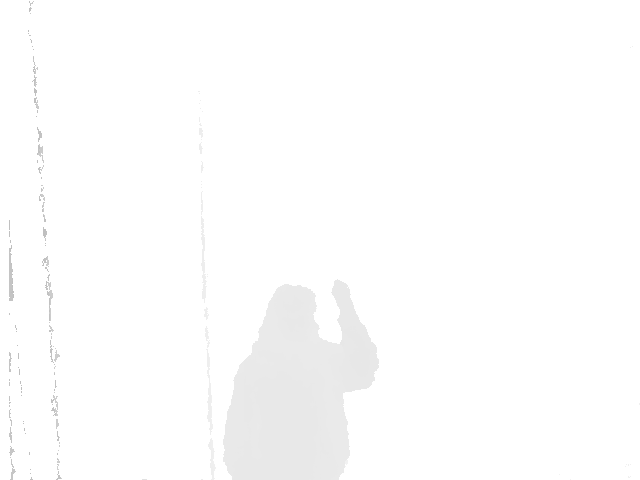hand: (328, 280, 356, 314)
head: (260, 282, 320, 341)
person: (223, 275, 382, 480)
